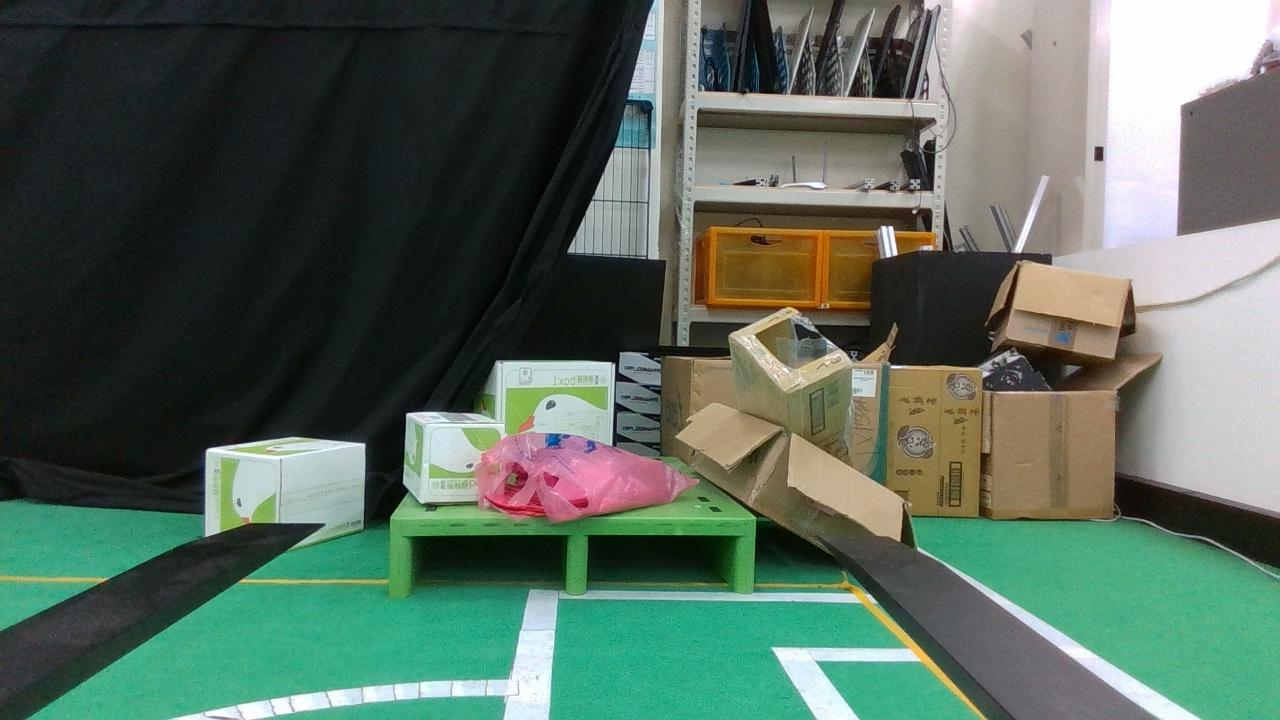Pallet: (388, 515, 756, 599)
